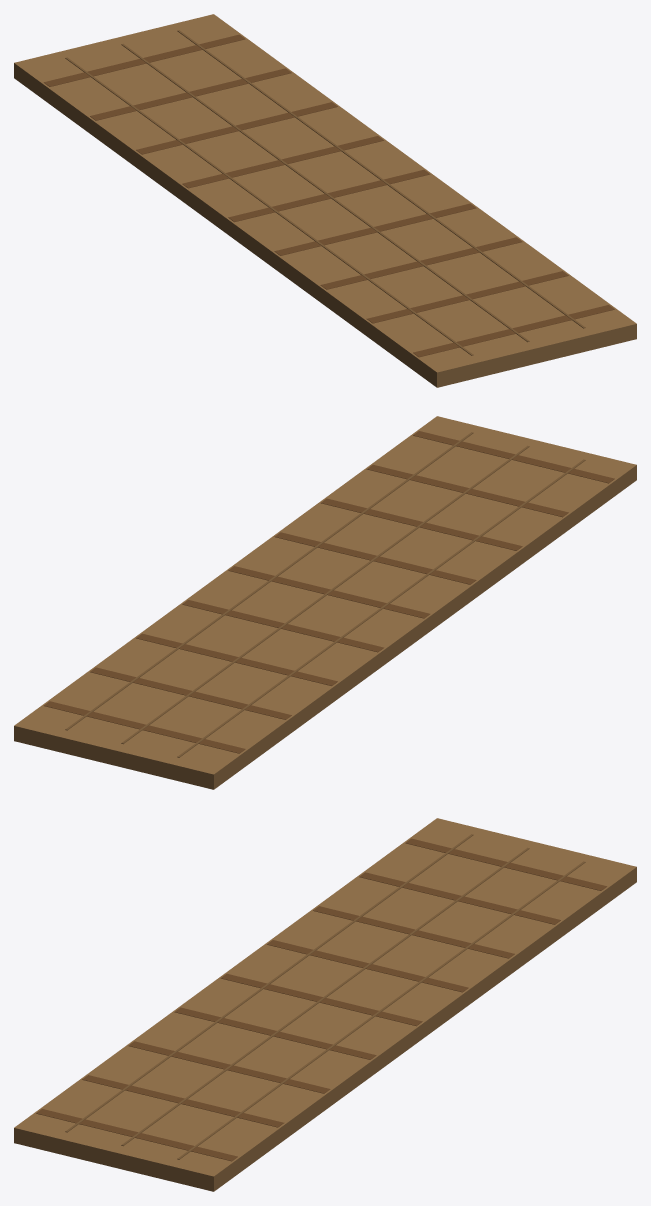
File: Mtn_Plank.fbx
3 views of the same model, one above another, from view 1: azimuth 30°, elevation 25°; view 2: azimuth 150°, elevation 25°; view 3: azimuth 330°, elevation 25° (orthographic).
Visible parts, largest first — view 1: Mtn_Plank; view 2: Mtn_Plank; view 3: Mtn_Plank.
Boxes of the visible parts, x1,y1,x2,y2 form: Mtn_Plank: [14, 14, 636, 387]; Mtn_Plank: [14, 416, 636, 789]; Mtn_Plank: [14, 818, 636, 1191].
Size of the model in its own units: 3 by 0.23 by 11.
